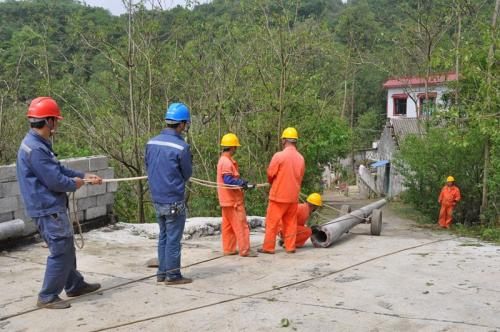boots: (66, 281, 101, 297), (36, 295, 71, 309), (164, 276, 192, 285), (240, 249, 259, 256), (257, 248, 275, 253), (157, 274, 165, 281)
gloves: (73, 173, 102, 188), (243, 183, 255, 190)
hard-hat: (26, 95, 64, 119), (163, 101, 191, 123), (220, 133, 241, 147), (279, 126, 298, 138), (306, 193, 322, 207), (447, 176, 455, 182)
person: (16, 96, 103, 309), (144, 101, 193, 284), (256, 126, 306, 253), (216, 132, 259, 256), (277, 192, 323, 248), (437, 175, 461, 229)
ppe-suit: (15, 128, 87, 299), (259, 146, 306, 253), (216, 152, 251, 256), (279, 200, 314, 245), (437, 184, 461, 228)
vest: (144, 128, 192, 198)
